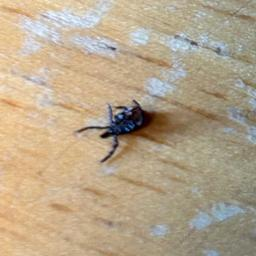Ixodes scapularis: (74, 100, 147, 163)
